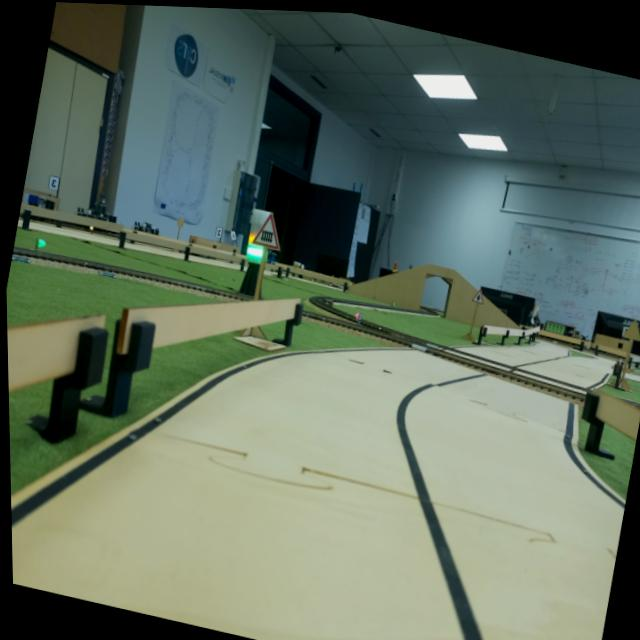panneau_barriere: (252, 210, 291, 252)
